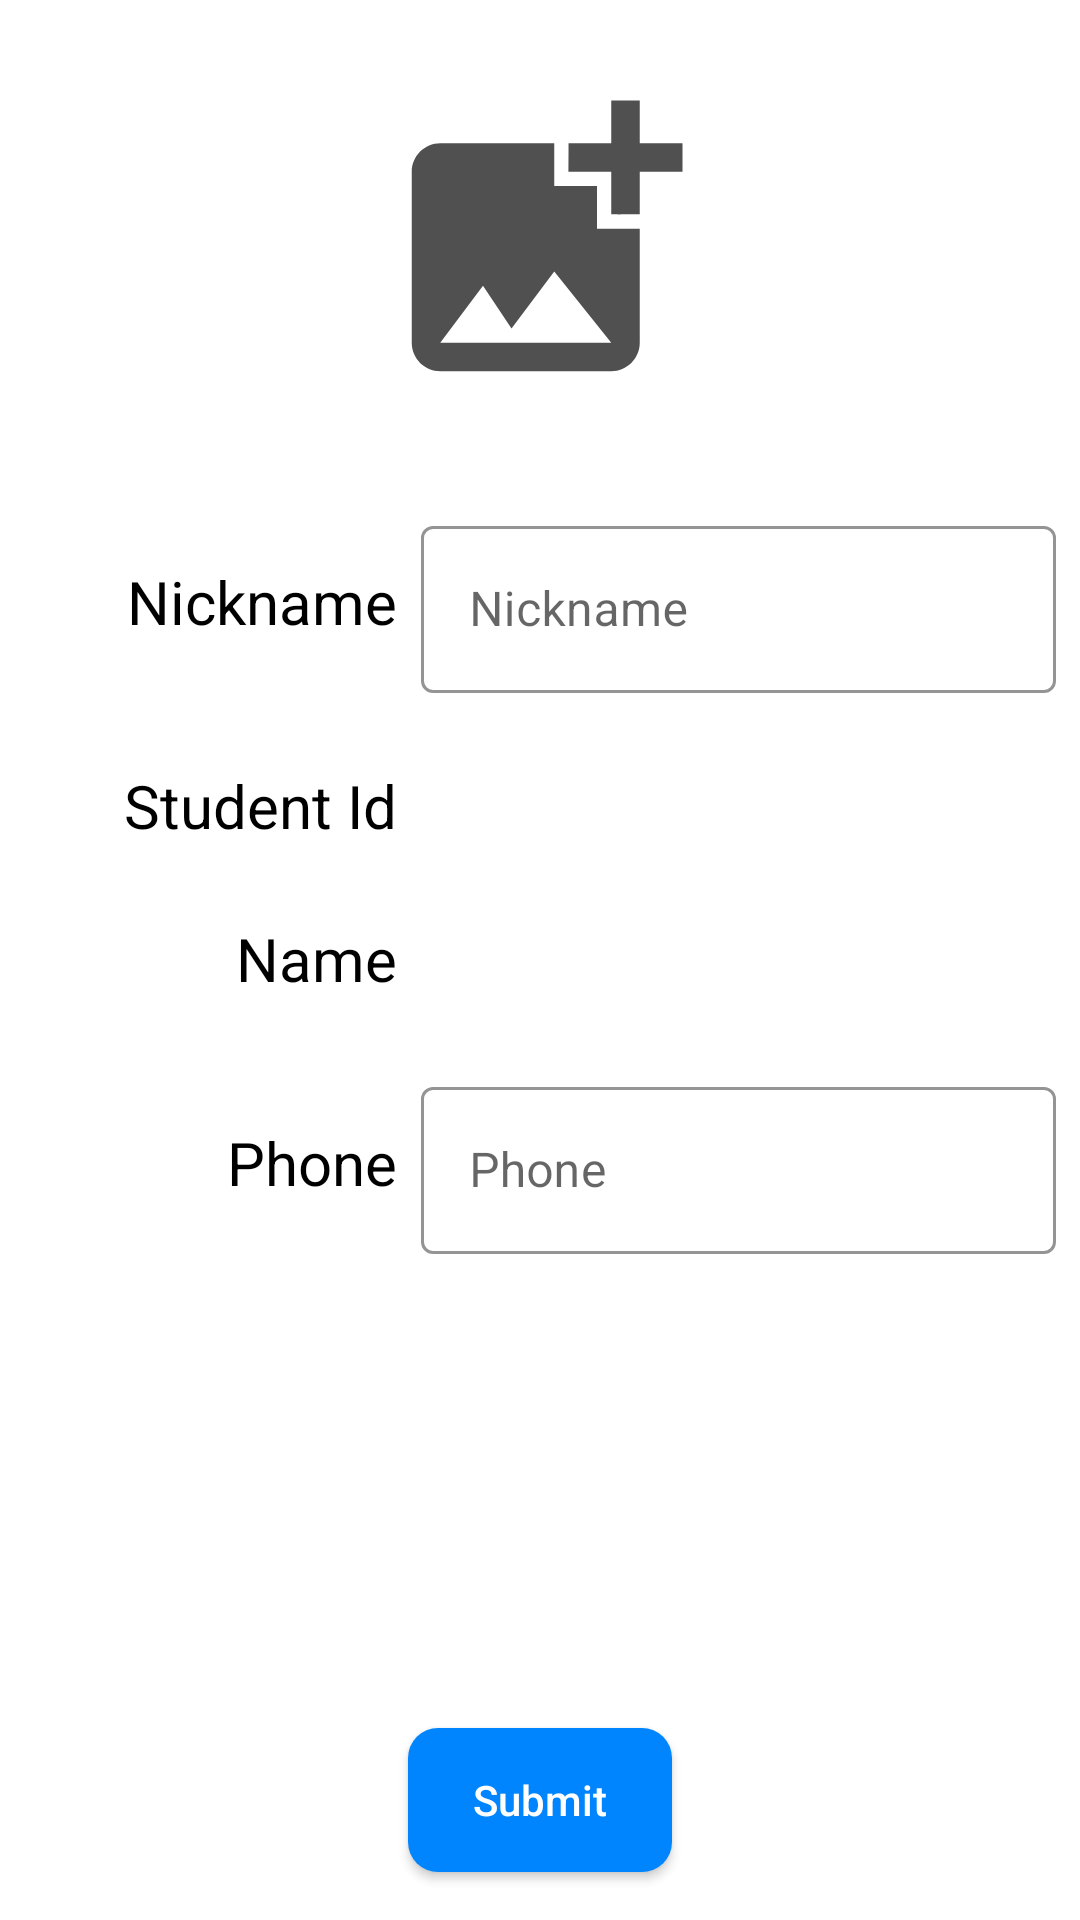

Icon click points for this 1080px×1920px phone screenshot, format [x,y]:
add photo alternate: [547,236]
